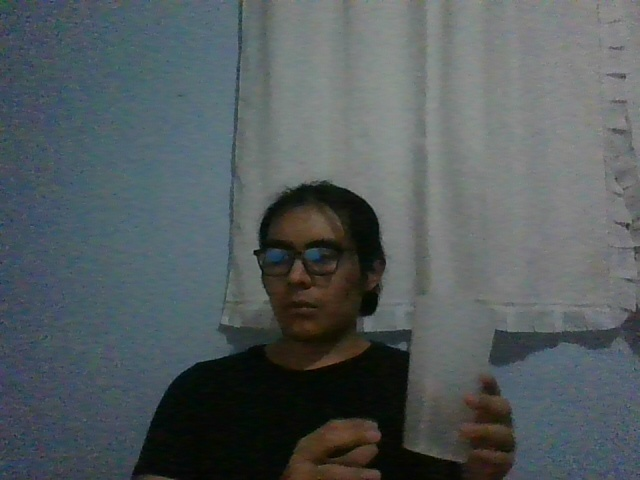vaso: (401, 294, 497, 464)
